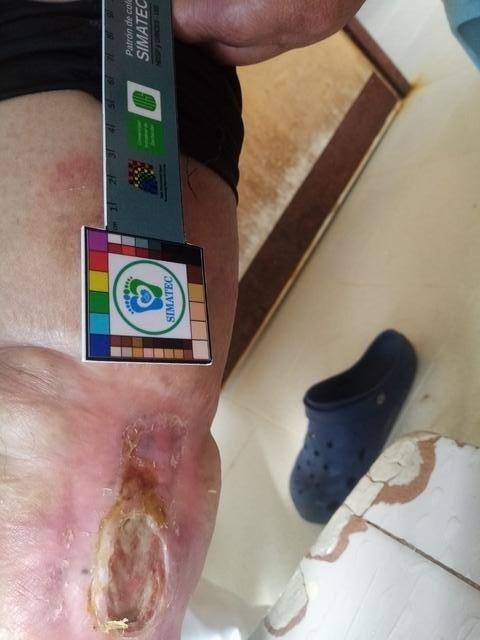wound: (90, 417, 186, 634)
